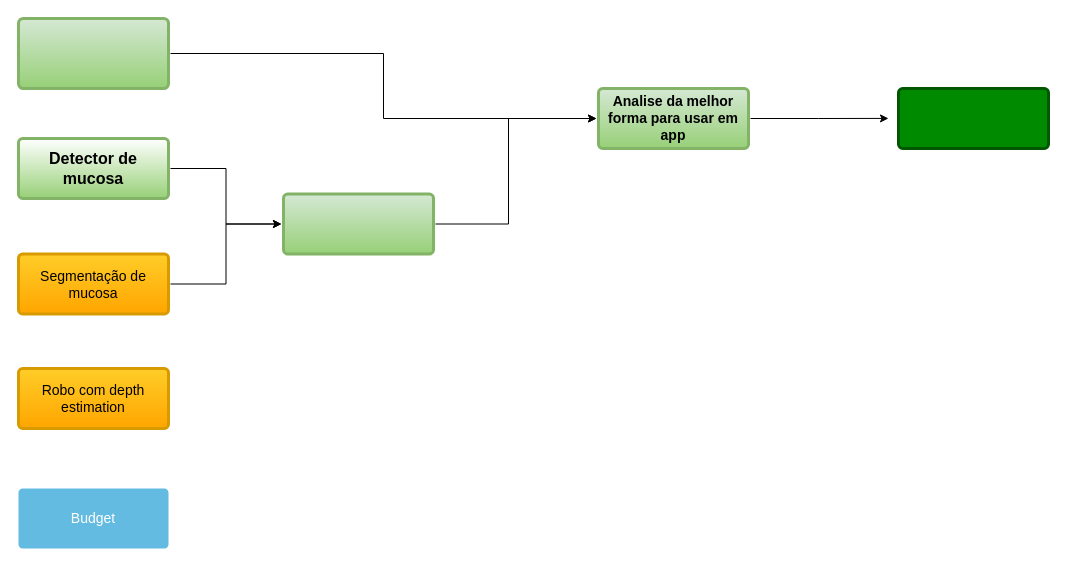
The diagram is 1067 pixels wide and 566 high, and some of its shapes have lost their labels. The shapes that lost their labels are listed below. From the top down, each one's centre as x and y in pixels, then its label:
pixel 93 53: Classificação de anemia com CNN
pixel 973 118: APP final da dissertação
pixel 358 223: Analise das técnicas para classificação com ML
